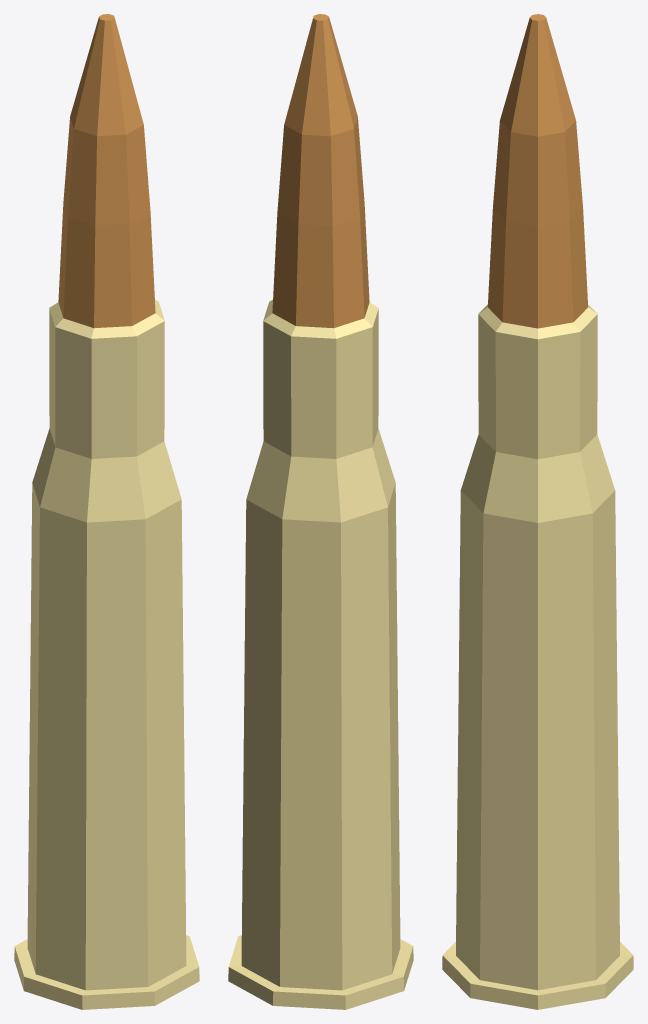
The model's file is cartridges8.fbx.
3 views of the same model, side by side, from view 1: azimuth 30°, elevation 25°; view 2: azimuth 150°, elevation 25°; view 3: azimuth 270°, elevation 25° (orthographic).
Visible parts, largest first — view 1: Cylinder_14; view 2: Cylinder_14; view 3: Cylinder_14.
Part boxes in pixels (x1,y1,x2,y2): Cylinder_14: (14, 14, 199, 1009); Cylinder_14: (228, 14, 413, 1009); Cylinder_14: (442, 14, 633, 1009).
Bounding box in the file's own units: 1.91 × 10.7 × 1.91.
